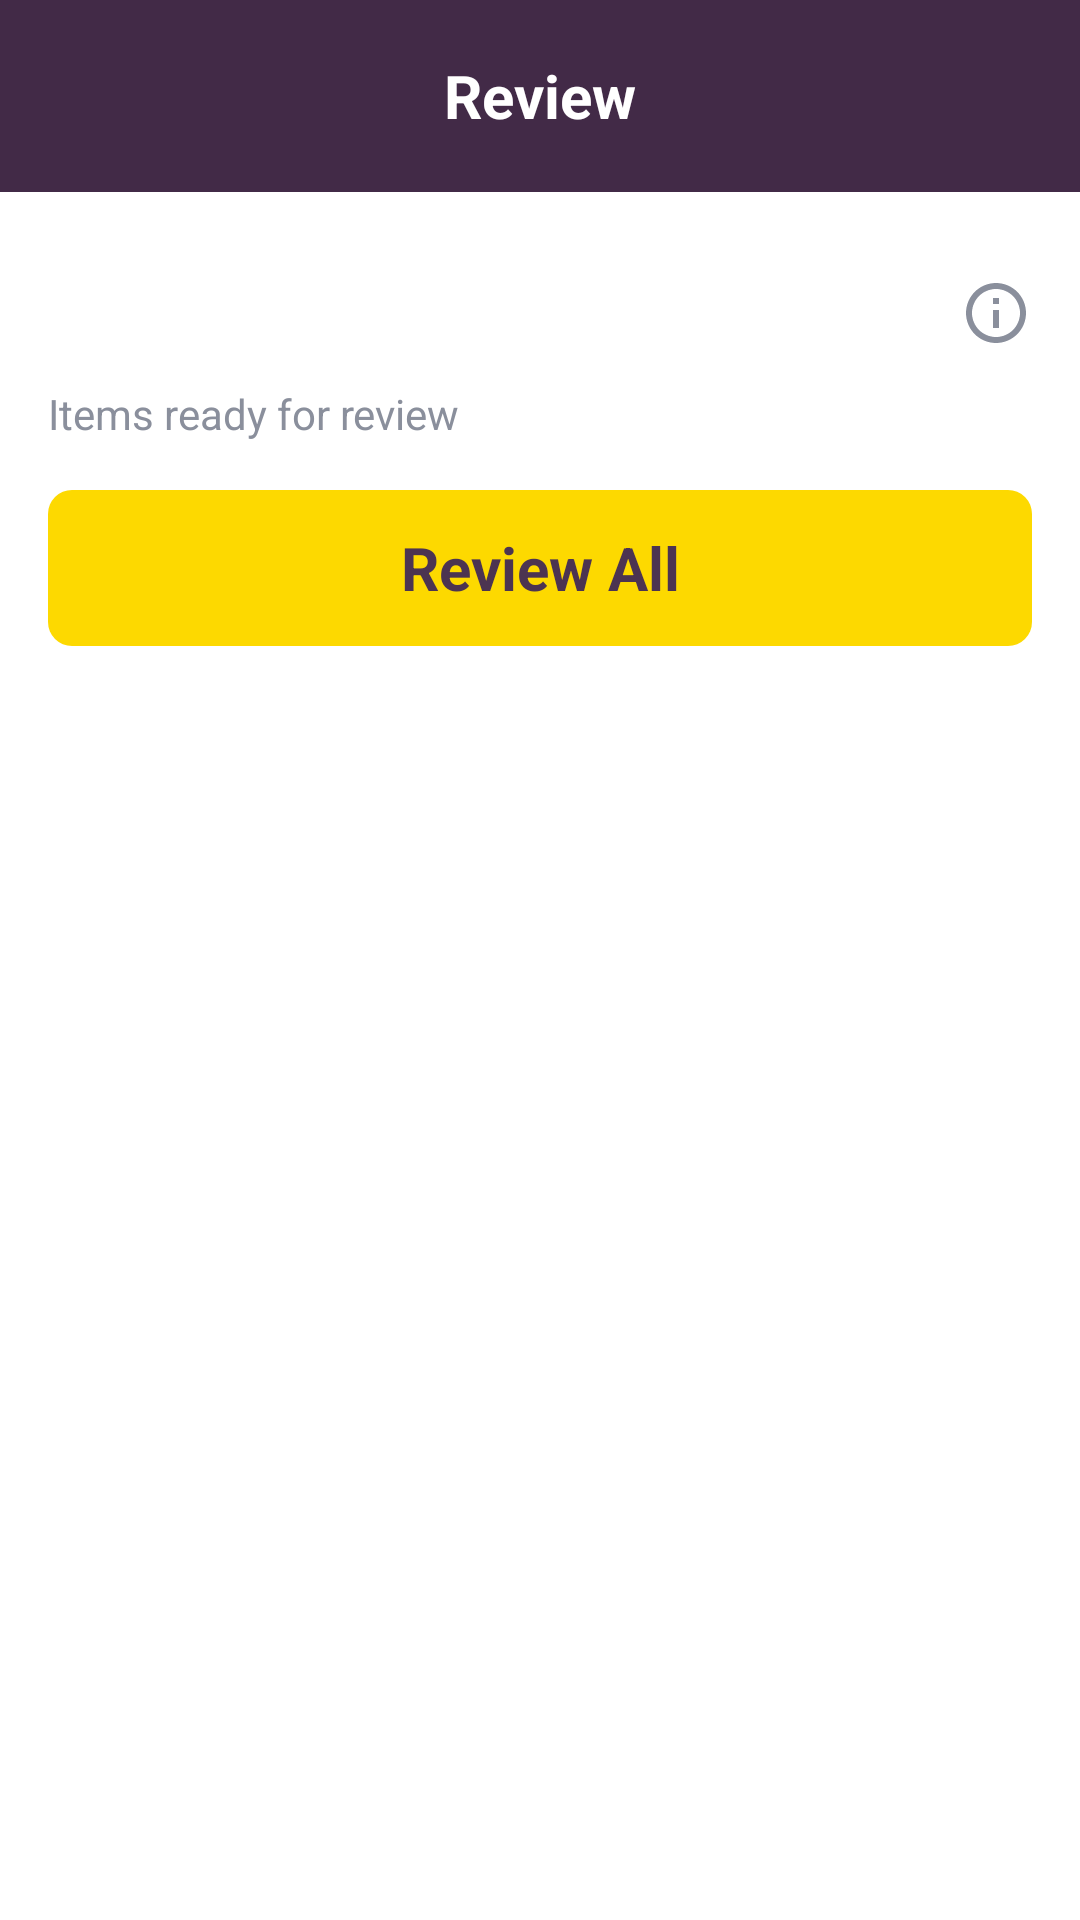

Where icons sit on this 1080x1920 app screen, as [x1, y1, x2, y2]:
Information: [966, 283, 1026, 343]
